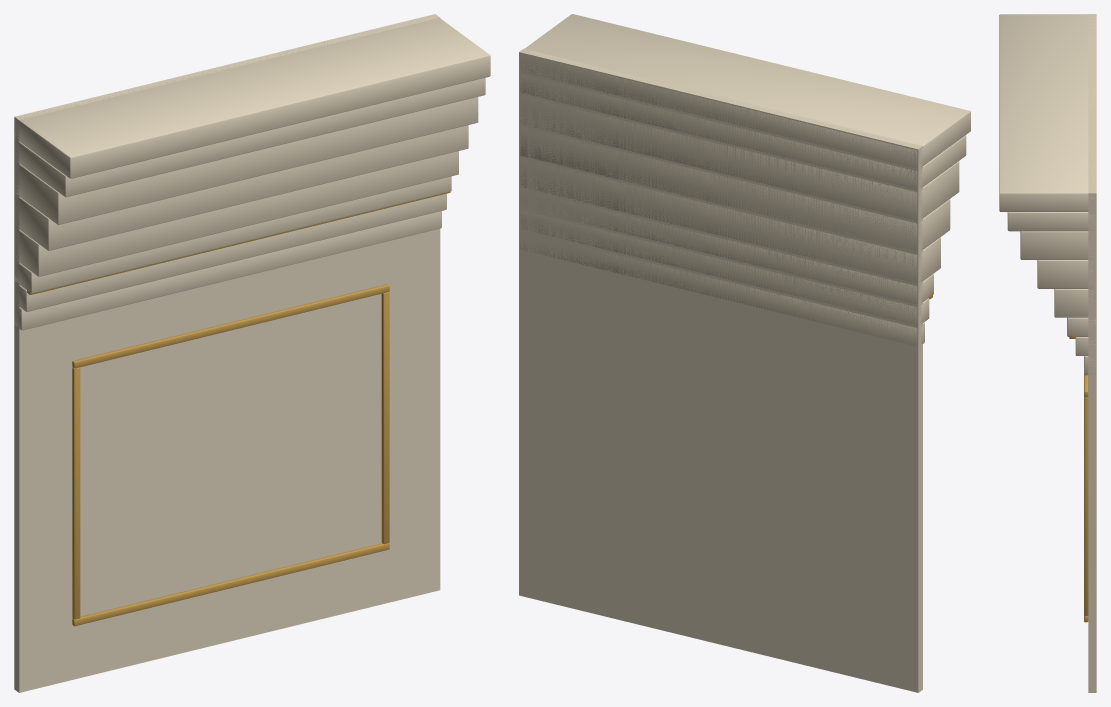
Rendered from frieze_ballroom.glb.
3 renders of one model, left to right at view 1: azimuth 30°, elevation 25°; view 2: azimuth 150°, elevation 25°; view 3: azimuth 270°, elevation 25°, orthographic. The views are drawn at different scales.
Visible parts, largest first — view 1: frieze_ballroom; view 2: frieze_ballroom; view 3: frieze_ballroom.
Part boxes in pixels (x1,y1,x2,y2): frieze_ballroom: (14,14,490,692); frieze_ballroom: (519,14,970,692); frieze_ballroom: (999,14,1096,692).
Bounding box in the file's own units: 2 × 2.6 × 0.46.
